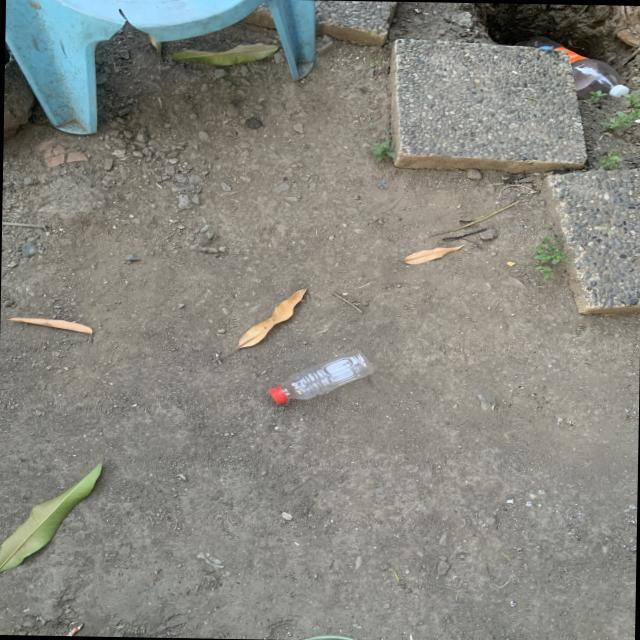Bottle: (269, 352, 374, 404)
